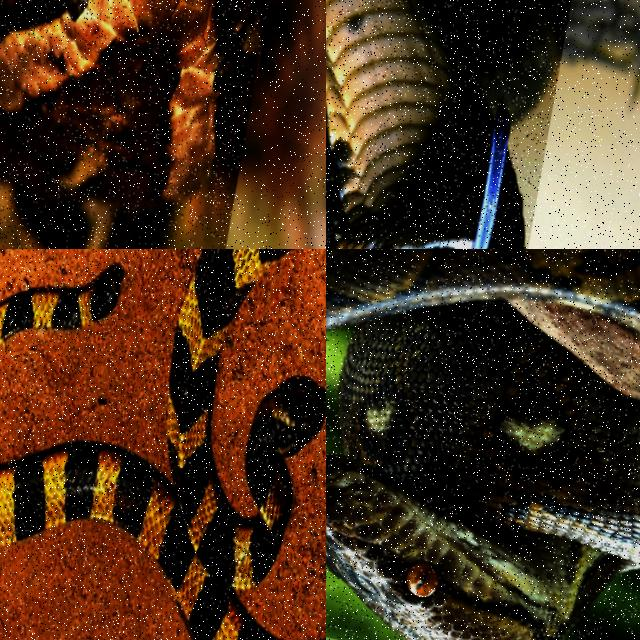Bungarus fasciatus: (0, 249, 325, 639)
Malayopython reticulatus: (326, 249, 639, 639)
Ophiophagus hannah: (326, 0, 556, 248)
Python bivittatus: (0, 0, 261, 248)
